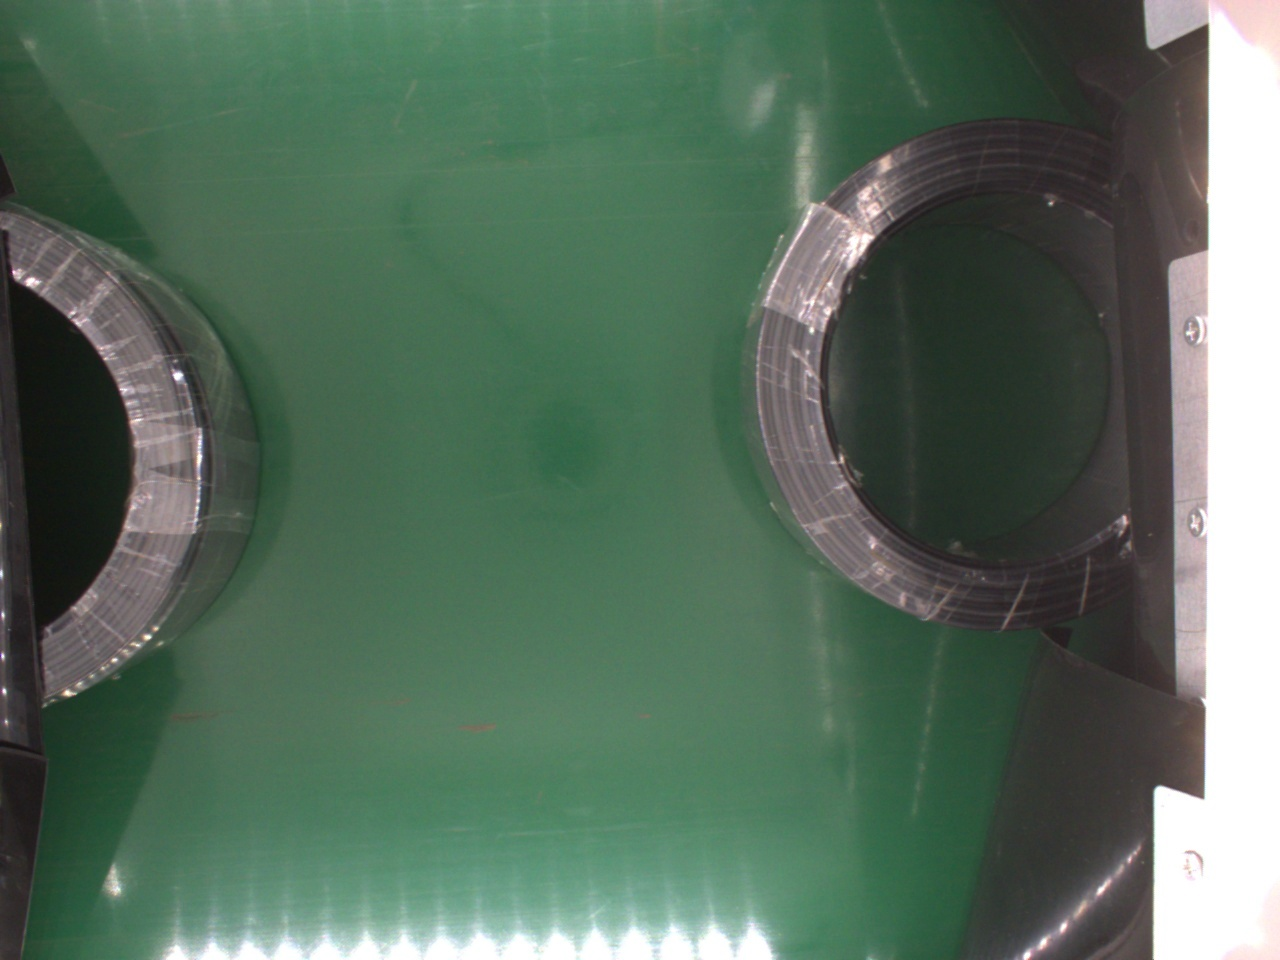black: (740, 114, 1154, 636), (8, 202, 259, 716)
